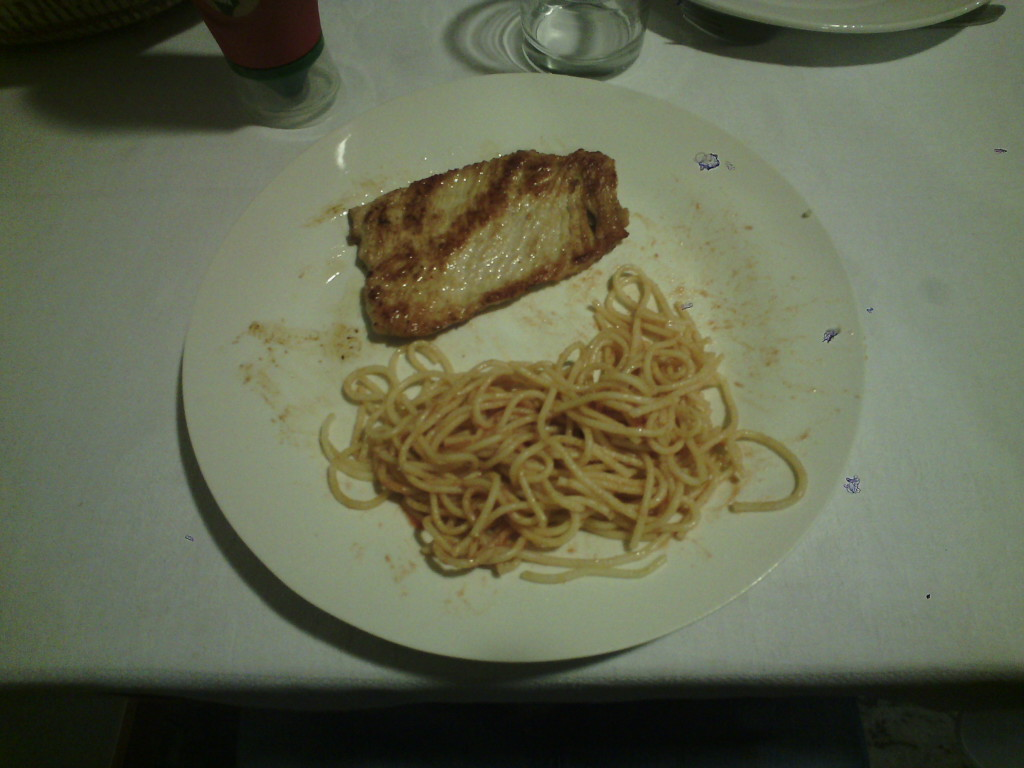41-60: (179, 72, 865, 664)
